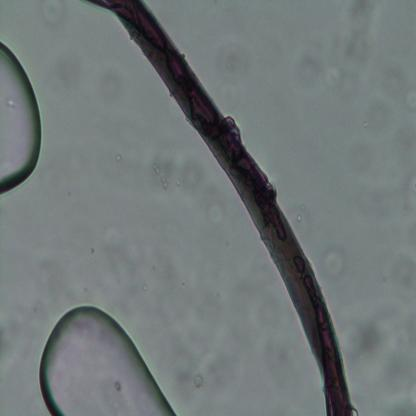Air bubble: (38, 302, 178, 414), (0, 40, 44, 197)
Background material: (153, 313, 235, 396), (291, 37, 356, 100), (137, 147, 204, 198), (342, 306, 393, 358), (202, 32, 250, 83), (341, 3, 369, 59), (0, 311, 27, 365), (378, 360, 416, 395), (93, 72, 122, 104), (320, 248, 347, 281), (36, 0, 63, 26), (403, 90, 416, 117)
Microfibre: (84, 0, 354, 416)
